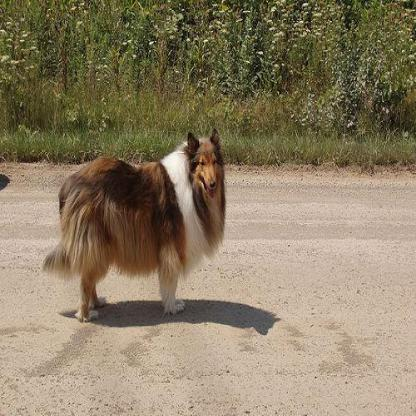collie: (42, 125, 224, 322)
